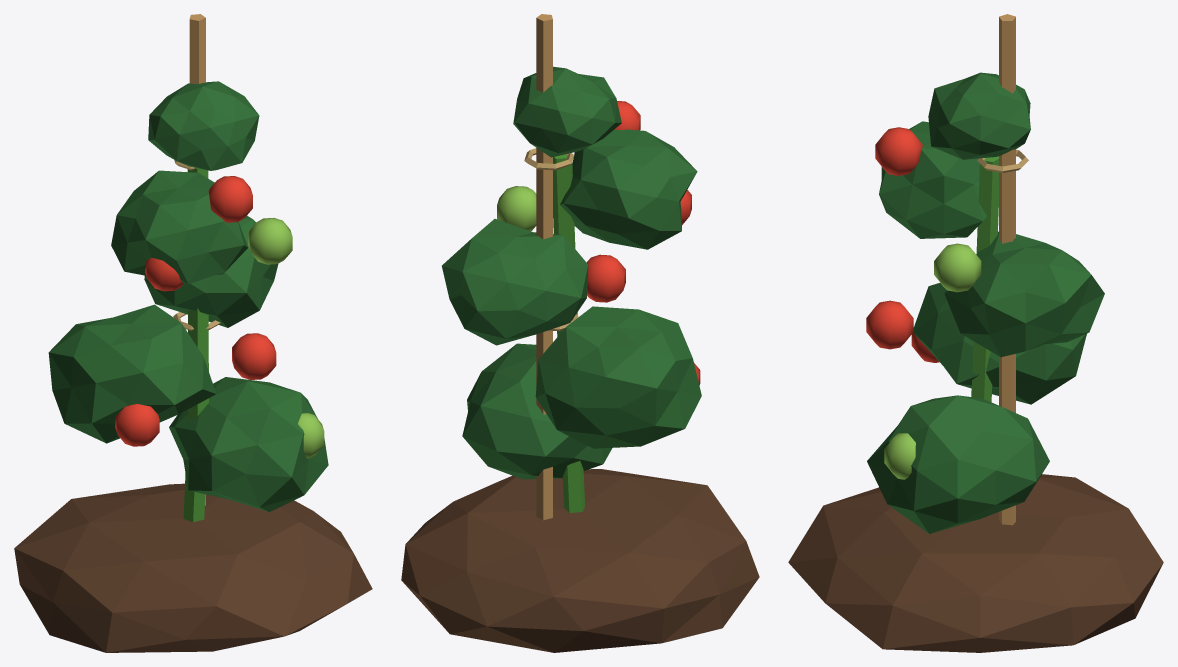
Rendered from tomato.glb.
3 renders of one model, left to right at view 1: azimuth 30°, elevation 25°; view 2: azimuth 150°, elevation 25°; view 3: azimuth 270°, elevation 25°, orthographic. The views are drawn at different scales.
Visible parts, largest first — view 1: Tomato leaves, Tomato soil, Tomato fruit, Tomato green fruit, Tomato stem, Tomato stake; view 2: Tomato leaves, Tomato soil, Tomato stake, Tomato fruit, Tomato stem, Tomato green fruit, Tomato twine; view 3: Tomato leaves, Tomato soil, Tomato fruit, Tomato stake, Tomato green fruit, Tomato stem.
Boxes of the visible parts, x1=… form: Tomato leaves: x1=48, y1=81, x2=328, y2=511; Tomato soil: x1=14, y1=483, x2=372, y2=652; Tomato fruit: x1=115, y1=176, x2=276, y2=446; Tomato green fruit: x1=248, y1=218, x2=324, y2=458; Tomato stem: x1=183, y1=168, x2=208, y2=522; Tomato stake: x1=189, y1=14, x2=205, y2=505; Tomato leaves: x1=442, y1=66, x2=701, y2=479; Tomato soil: x1=401, y1=469, x2=759, y2=652; Tomato stake: x1=536, y1=14, x2=552, y2=520; Tomato fruit: x1=586, y1=101, x2=700, y2=385; Tomato stem: x1=553, y1=154, x2=584, y2=512; Tomato green fruit: x1=497, y1=186, x2=536, y2=231; Tomato twine: x1=524, y1=148, x2=578, y2=331; Tomato leaves: x1=867, y1=72, x2=1104, y2=533; Tomato soil: x1=788, y1=474, x2=1163, y2=652; Tomato fruit: x1=866, y1=127, x2=939, y2=362; Tomato stake: x1=999, y1=14, x2=1015, y2=525; Tomato green fruit: x1=884, y1=243, x2=981, y2=479; Tomato stem: x1=971, y1=156, x2=998, y2=402.
Size of the model in its own units: 0.7689 by 1.45 by 0.831.
